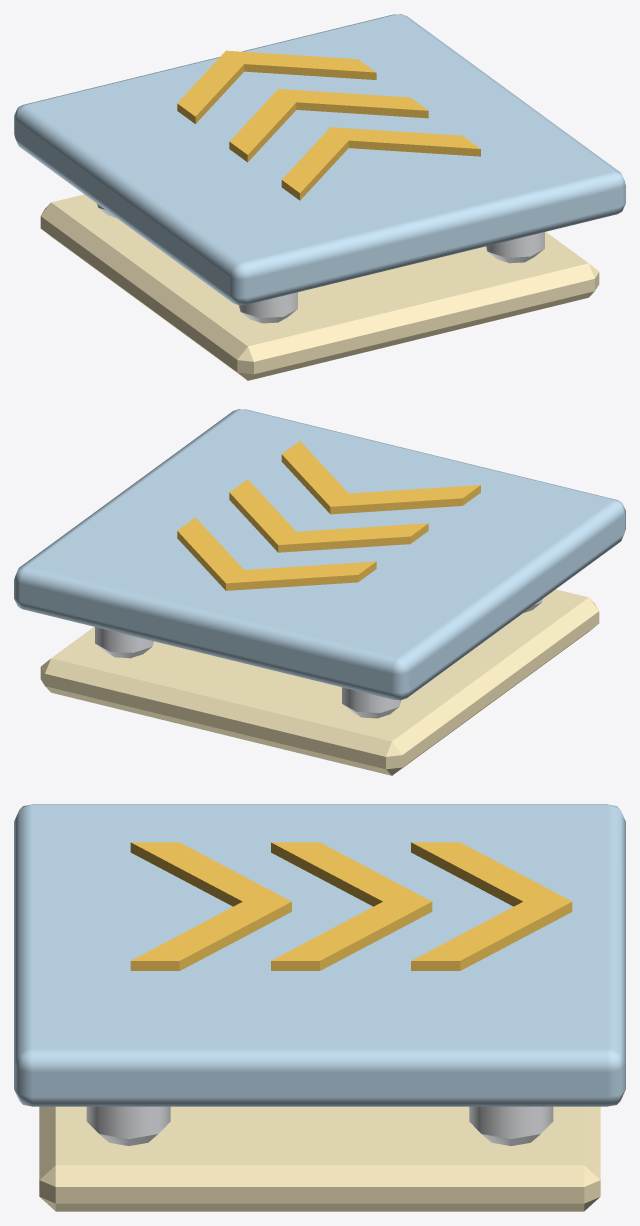
The model's file is R4D_KnockbackTrap.glb.
The picture shows the model from 3 angles, top to bottom: view 1: azimuth 30°, elevation 25°; view 2: azimuth 150°, elevation 25°; view 3: azimuth 270°, elevation 25°; orthographic projection. The views are drawn at different scales.
Visible parts, largest first — view 1: R4D_KnockbackTrap_Plate, R4D_KnockbackTrap_Body; view 2: R4D_KnockbackTrap_Plate, R4D_KnockbackTrap_Body; view 3: R4D_KnockbackTrap_Plate, R4D_KnockbackTrap_Body.
Part boxes in pixels (x1,y1,x2,y2): R4D_KnockbackTrap_Plate: (14, 14, 625, 305); R4D_KnockbackTrap_Body: (40, 194, 599, 380); R4D_KnockbackTrap_Plate: (14, 409, 625, 700); R4D_KnockbackTrap_Body: (40, 589, 599, 775); R4D_KnockbackTrap_Plate: (14, 804, 625, 1106); R4D_KnockbackTrap_Body: (39, 1106, 600, 1211).
Bounding box in the file's own units: 0.48 × 0.1716 × 0.48.
